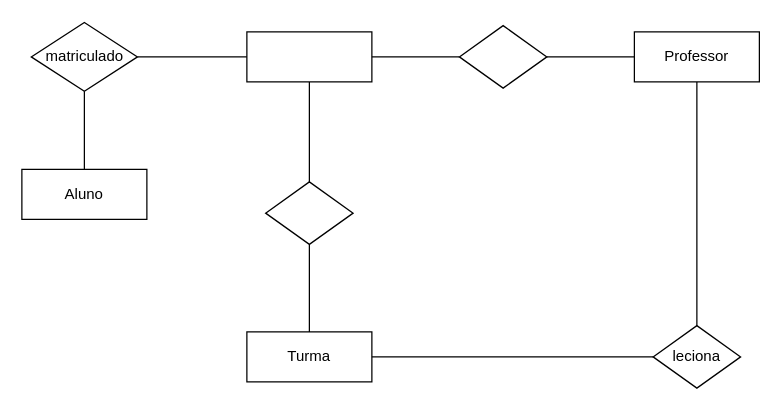
Some shapes in this 781 by 410 pixel diagram are drawn without their labels. The shapes that lost their labels are listed below. From the top down, each one's centre as x and y in pixels, then its label:
the point at 309,56: Curso
the point at 502,56: ministra
the point at 308,212: possui
